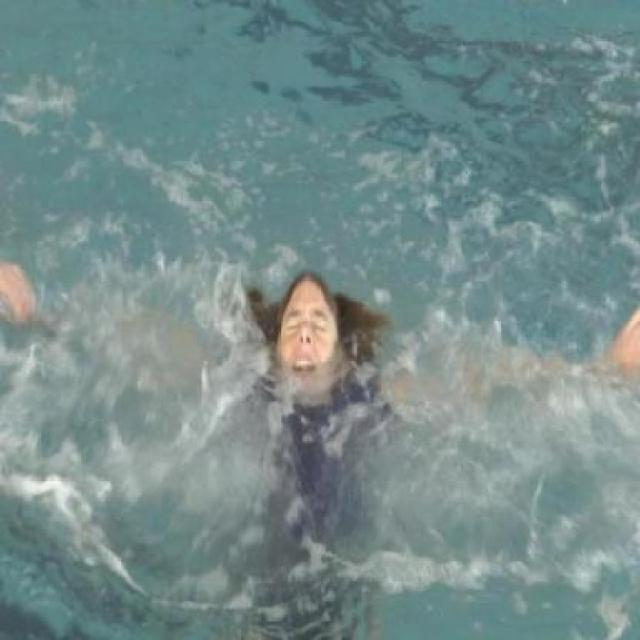drowning: (6, 183, 640, 594)
